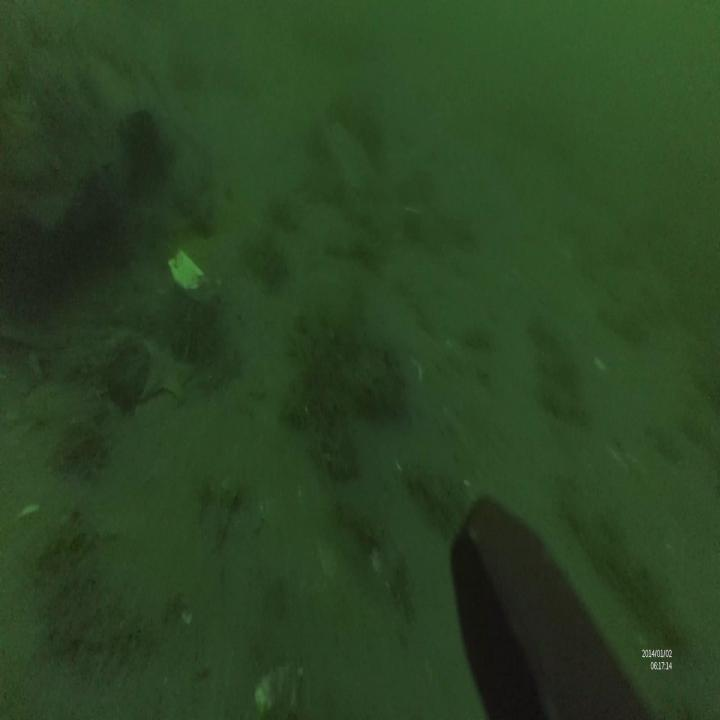echinus: (124, 108, 159, 159)
scallop: (164, 248, 205, 293)
starfish: (142, 334, 193, 416)
